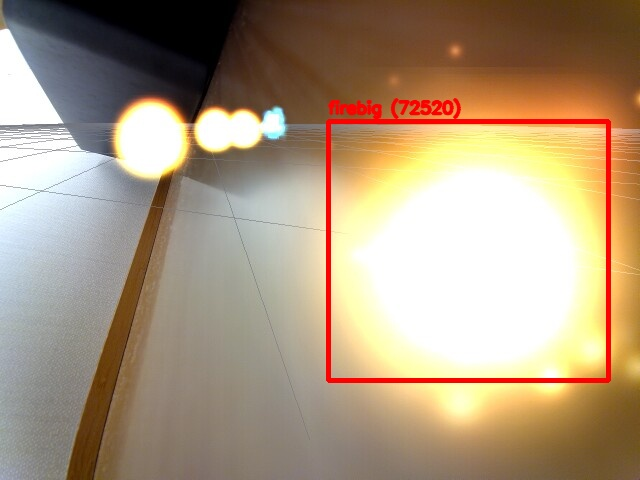firebig: (328, 121, 608, 380)
